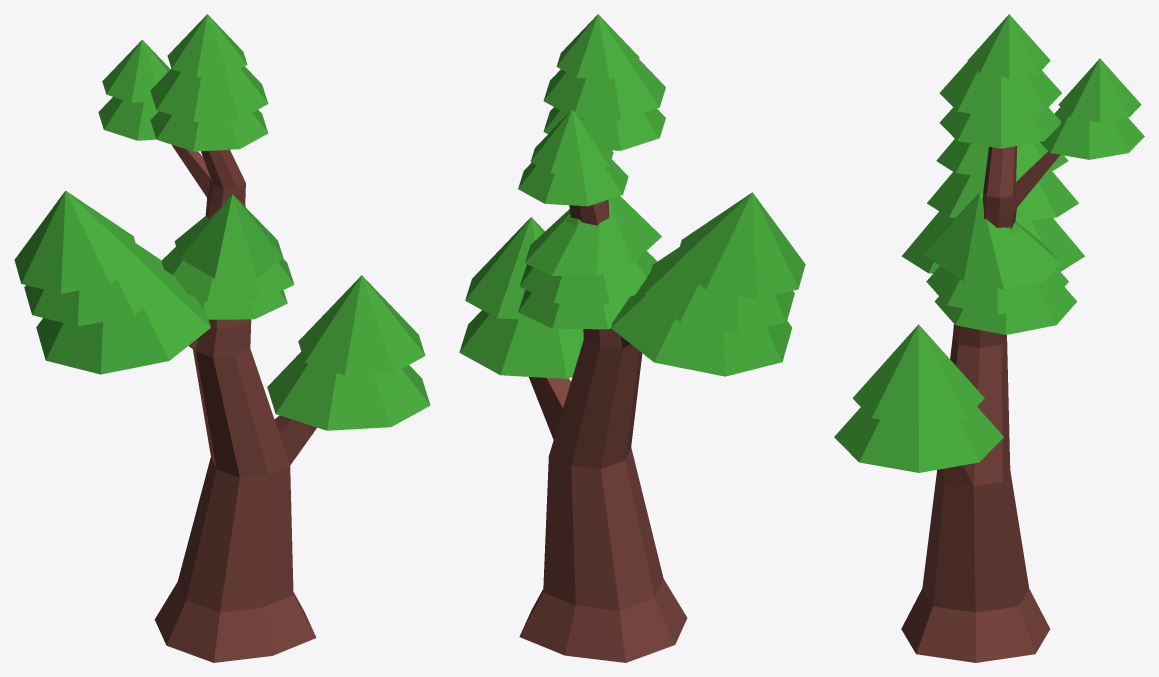
The model's file is tree 2.fbx.
The picture shows the model from 3 angles, left to right: view 1: azimuth 30°, elevation 25°; view 2: azimuth 150°, elevation 25°; view 3: azimuth 270°, elevation 25°; orthographic projection. The views are drawn at different scales.
Visible parts, largest first — view 1: Tree 3; view 2: Tree 3; view 3: Tree 3.
Part boxes in pixels (bbox=[...]): Tree 3: bbox=[14, 14, 430, 662]; Tree 3: bbox=[459, 14, 805, 662]; Tree 3: bbox=[834, 14, 1144, 662].
Bounding box in the file's own units: 701 × 1127 × 521.
